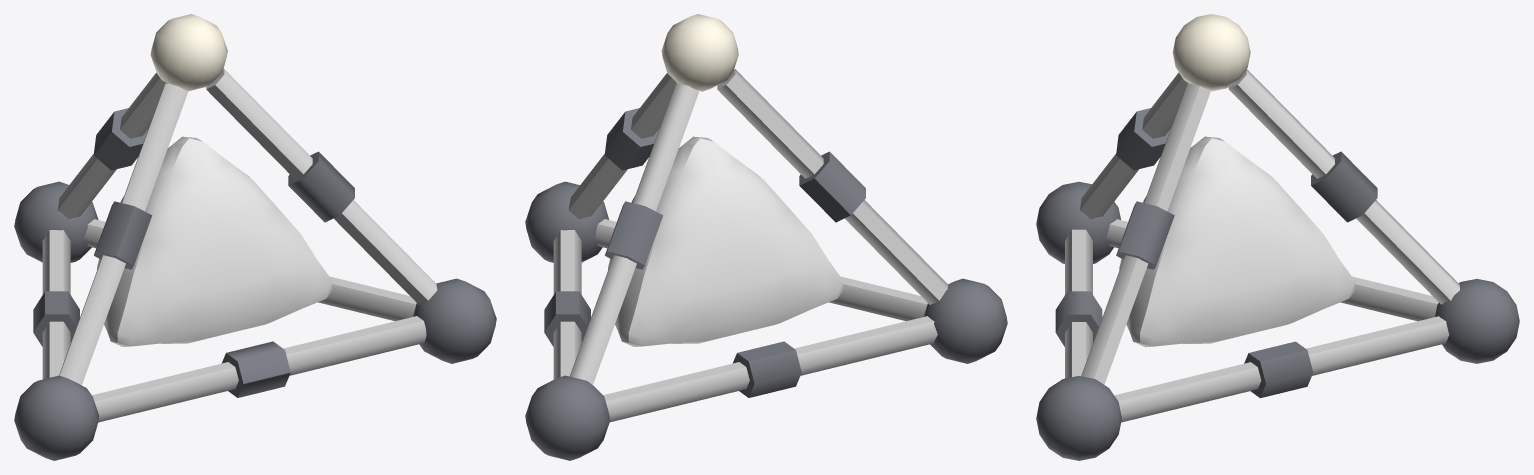
Rendered from W_InkBomb.fbx.
The picture shows the model from 3 angles, left to right: view 1: azimuth 30°, elevation 25°; view 2: azimuth 150°, elevation 25°; view 3: azimuth 270°, elevation 25°; orthographic projection.
Parts seen in each view (by area): view 1: InkBomb_Ink, InkBomb_Rod3, InkBomb_Rod4, InkBomb_Rod5, InkBomb_Corner2, InkBomb_Corner1, InkBomb_Light, InkBomb_Corner0, InkBomb_Rod2, InkBomb_Rod1, InkBomb_Rod0, InkBomb_Clamp3 (+4 smaller); view 2: InkBomb_Ink, InkBomb_Rod1, InkBomb_Rod5, InkBomb_Rod2, InkBomb_Corner0, InkBomb_Corner2, InkBomb_Light, InkBomb_Corner1, InkBomb_Rod4, InkBomb_Rod0, InkBomb_Rod3, InkBomb_Clamp1 (+4 smaller); view 3: InkBomb_Ink, InkBomb_Rod0, InkBomb_Rod2, InkBomb_Rod4, InkBomb_Corner1, InkBomb_Corner0, InkBomb_Light, InkBomb_Corner2, InkBomb_Rod5, InkBomb_Rod3, InkBomb_Rod1, InkBomb_Clamp0 (+4 smaller).
Part boxes in pixels (x1,y1,x2,y2): InkBomb_Ink: (97,136,332,346); InkBomb_Rod3: (92,316,426,422); InkBomb_Rod4: (206,69,437,304); InkBomb_Rod5: (59,83,187,385); InkBomb_Corner2: (14,375,98,460); InkBomb_Corner1: (413,278,496,363); InkBomb_Light: (150,14,227,91); InkBomb_Corner0: (14,181,98,262); InkBomb_Rod2: (57,72,168,219); InkBomb_Rod1: (42,230,70,379); InkBomb_Rod0: (84,219,416,321); InkBomb_Clamp3: (221,341,290,397); InkBomb_Ink: (608,136,843,346); InkBomb_Rod1: (603,316,937,422); InkBomb_Rod5: (717,69,948,304); InkBomb_Rod2: (569,83,698,385); InkBomb_Corner0: (525,375,610,460); InkBomb_Corner2: (923,278,1007,363); InkBomb_Light: (661,14,738,91); InkBomb_Corner1: (525,181,608,262); InkBomb_Rod4: (568,73,676,219); InkBomb_Rod0: (553,230,581,379); InkBomb_Rod3: (595,219,927,321); InkBomb_Clamp1: (732,341,801,397); InkBomb_Ink: (1119,136,1354,347); InkBomb_Rod0: (1114,316,1449,422); InkBomb_Rod2: (1228,69,1459,304); InkBomb_Rod4: (1081,83,1210,384); InkBomb_Corner1: (1036,376,1121,460); InkBomb_Corner0: (1435,279,1519,363); InkBomb_Light: (1172,14,1250,91); InkBomb_Corner2: (1036,181,1120,263); InkBomb_Rod5: (1080,72,1187,219); InkBomb_Rod3: (1065,229,1092,378); InkBomb_Rod1: (1106,219,1438,321); InkBomb_Clamp0: (1244,341,1313,398).
Size of the model in its own units: 0.6989 by 0.4799 by 0.62.
